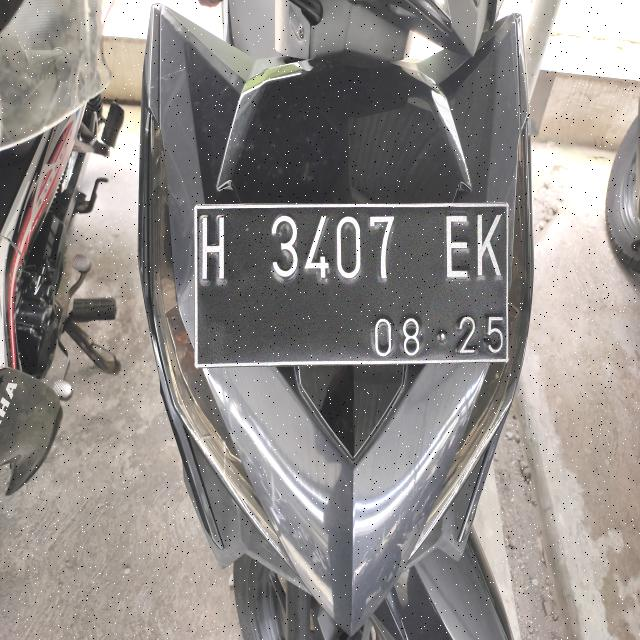plate: (195, 204, 507, 366)
